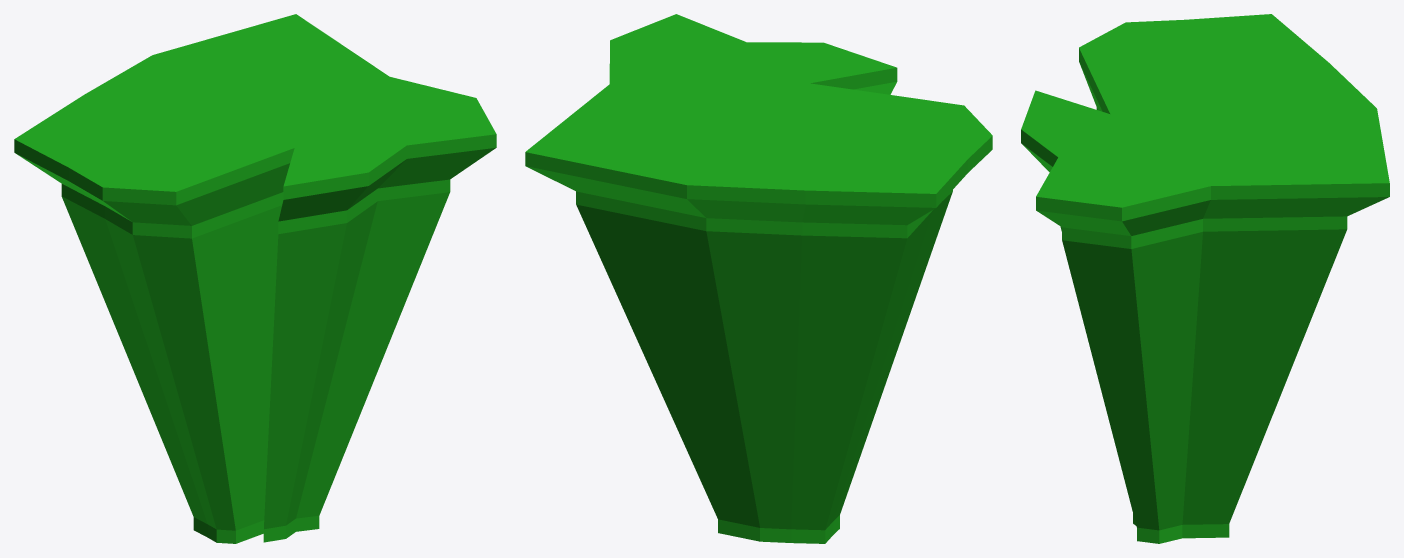
3 renders of one model, left to right at view 1: azimuth 30°, elevation 25°; view 2: azimuth 150°, elevation 25°; view 3: azimuth 270°, elevation 25°, orthographic. The views are drawn at different scales.
Visible parts, largest first — view 1: GB; view 2: GB; view 3: GB.
Boxes of the visible parts, box(x1,y1,x2,y2) form: GB: box(14, 14, 496, 543); GB: box(525, 14, 992, 543); GB: box(1021, 14, 1389, 543).
Bounding box in the file's own units: 51.5 × 50.59 × 41.43.
